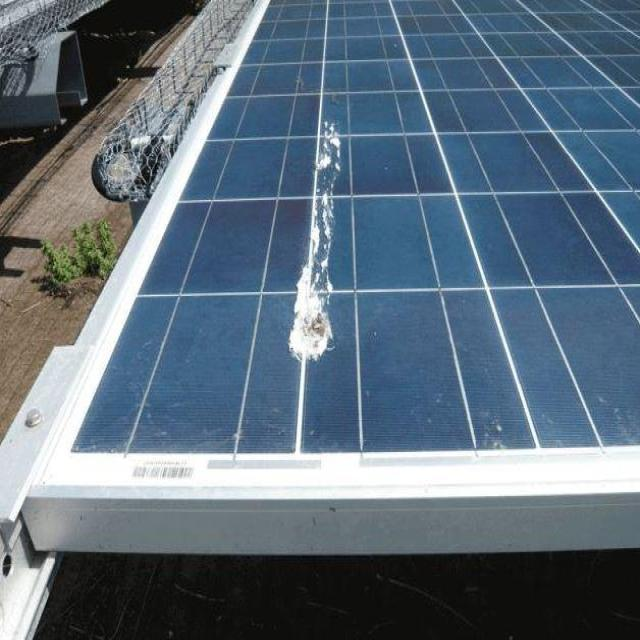soiled: (34, 1, 640, 549)
